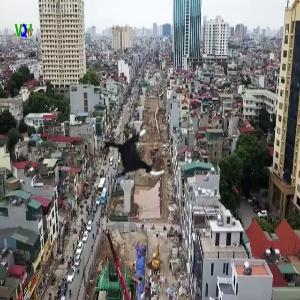drone: (98, 116, 174, 192)
